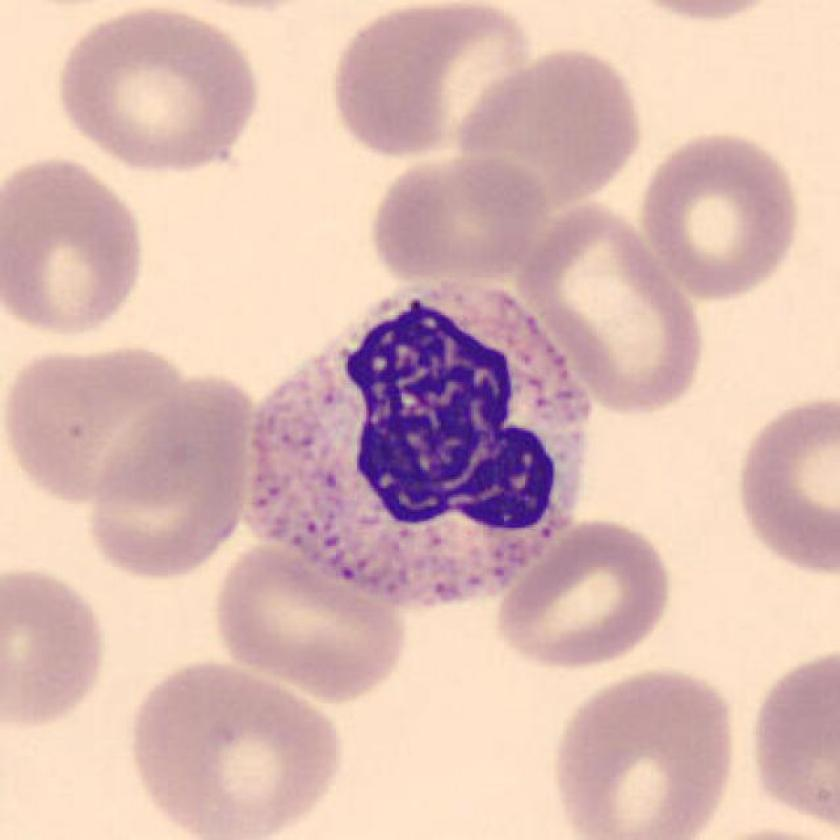neutrophil: (248, 278, 590, 603)
